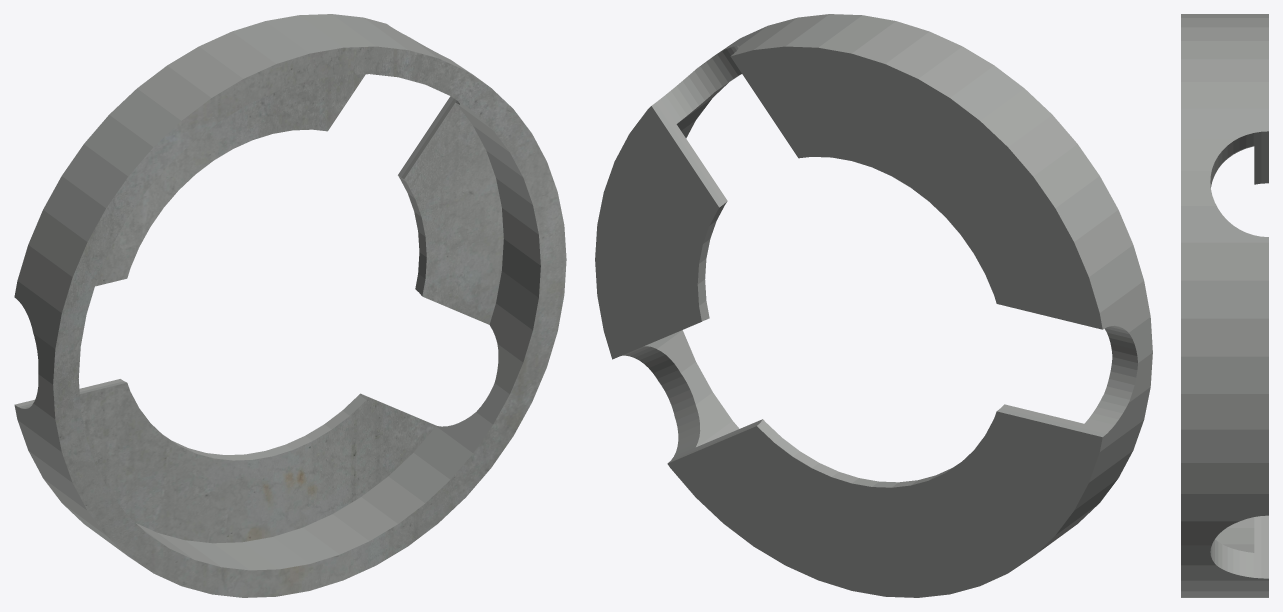
File: pool_001.obj
3 renders of one model, left to right at view 1: azimuth 30°, elevation 25°; view 2: azimuth 150°, elevation 25°; view 3: azimuth 270°, elevation 25°, orthographic.
Size of the model in its own units: 20 by 20 by 3.
